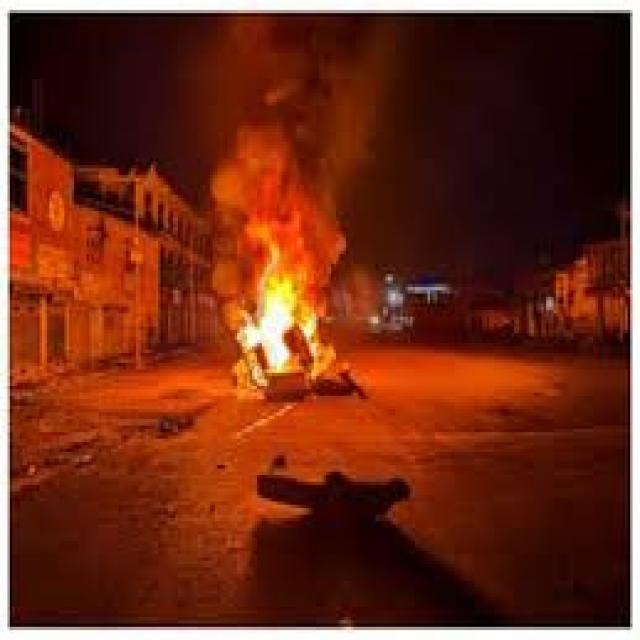fire: (238, 246, 318, 382)
